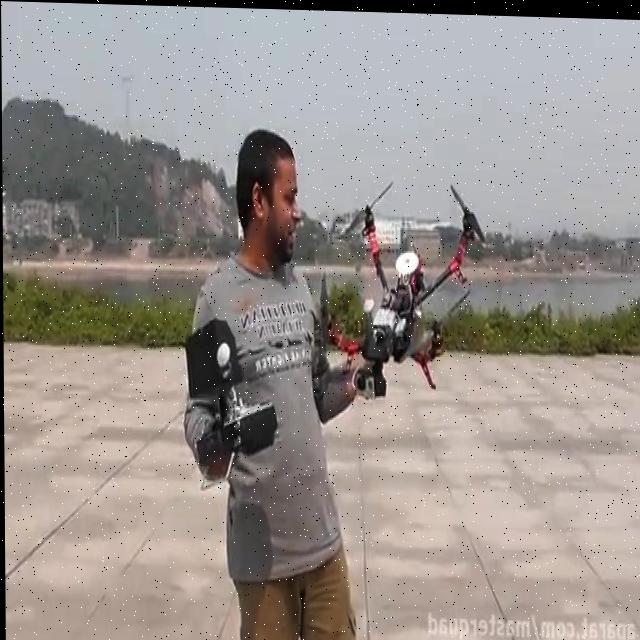drone: (316, 170, 491, 405)
